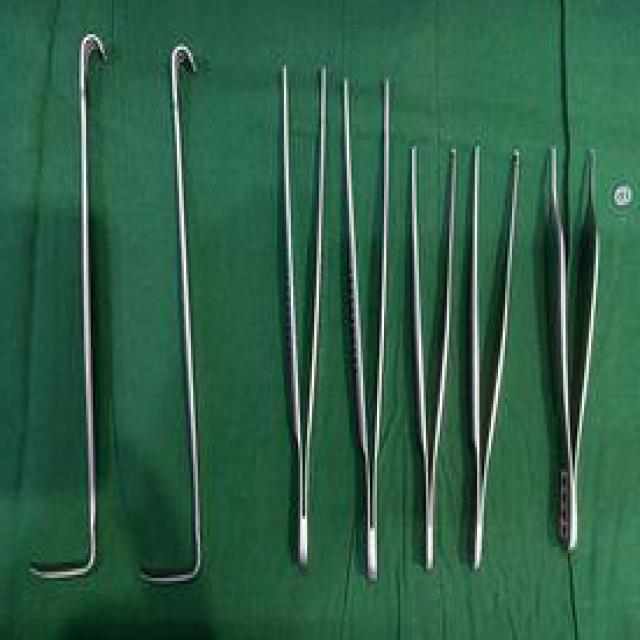Army_navy: (26, 31, 110, 584), (135, 34, 207, 587)
Forceps: (338, 71, 393, 584), (277, 59, 330, 572), (463, 139, 524, 572), (542, 140, 603, 553), (405, 140, 461, 575)
